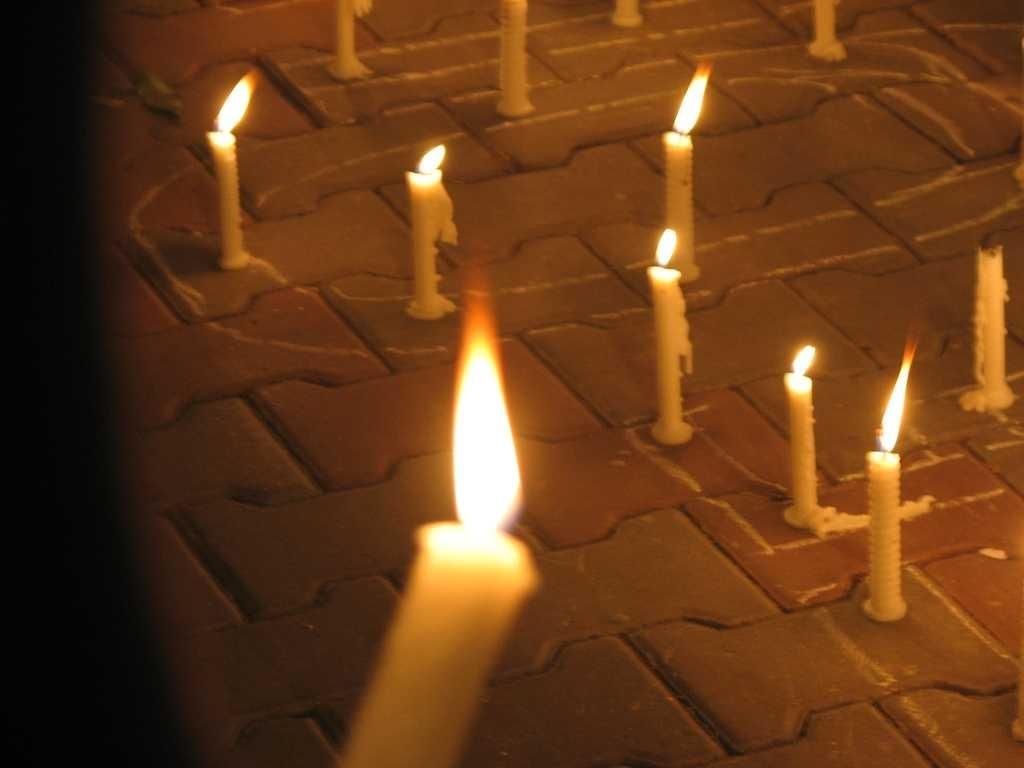fire: (446, 342, 531, 523), (677, 65, 711, 134), (881, 373, 911, 451), (219, 78, 255, 135), (415, 145, 449, 178), (653, 227, 677, 269), (792, 346, 820, 376)
